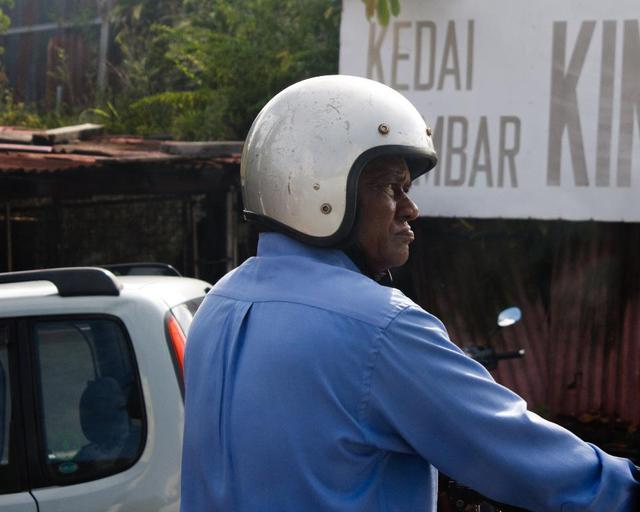helmet: (243, 68, 433, 220)
